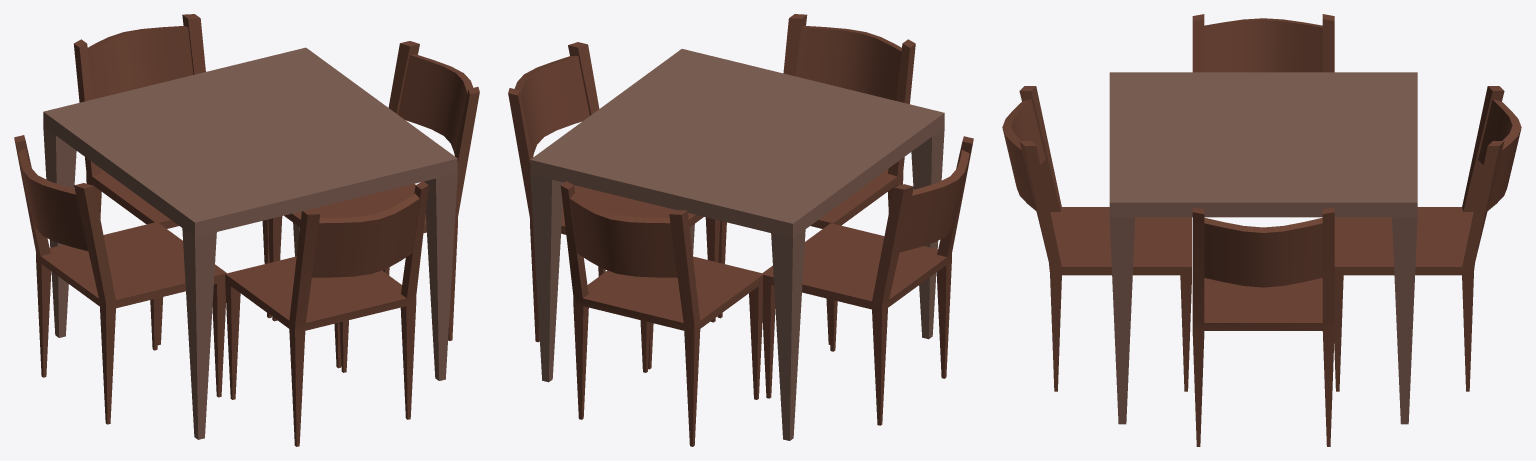
Rendered from table.fbx.
3 renders of one model, left to right at view 1: azimuth 30°, elevation 25°; view 2: azimuth 150°, elevation 25°; view 3: azimuth 270°, elevation 25°, orthographic.
Visible parts, largest first — view 1: TABLE, chair.003, chair.001, chair, chair.002; view 2: TABLE, chair.002, chair.001, chair.003, chair; view 3: TABLE, chair, chair.003, chair.002, chair.001.
Part boxes in pixels (x1,y1,x2,y2): TABLE: (43,47,457,439); chair.003: (225,181,428,446); chair.001: (14,135,226,424); chair: (268,41,479,368); chair.002: (74,14,271,345); TABLE: (530,49,944,440); chair.002: (560,181,762,446); chair.001: (761,136,973,425); chair.003: (717,14,915,344); chair: (508,42,720,369); TABLE: (1109,72,1417,424); chair: (1192,207,1334,446); chair.003: (1002,86,1191,391); chair.002: (1334,86,1521,391); chair.001: (1192,14,1334,72).
Bounding box in the file's own units: 465 × 250 × 475.
